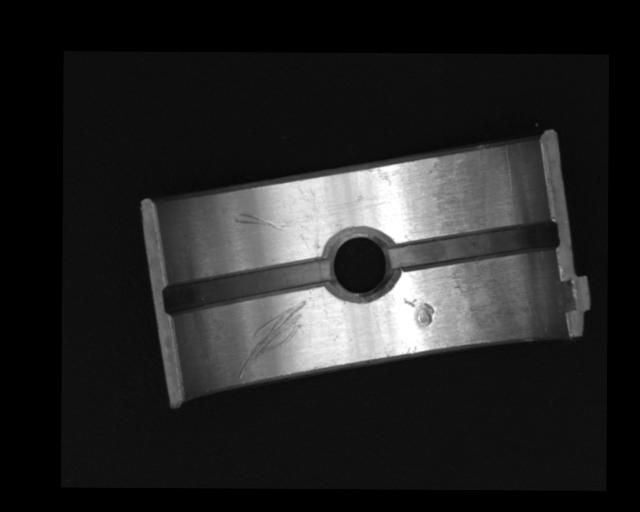bruise: (403, 297, 435, 328)
gap: (163, 257, 330, 314), (390, 220, 558, 267)
hole: (325, 226, 396, 303)
nick: (238, 298, 305, 378), (233, 210, 287, 231)
